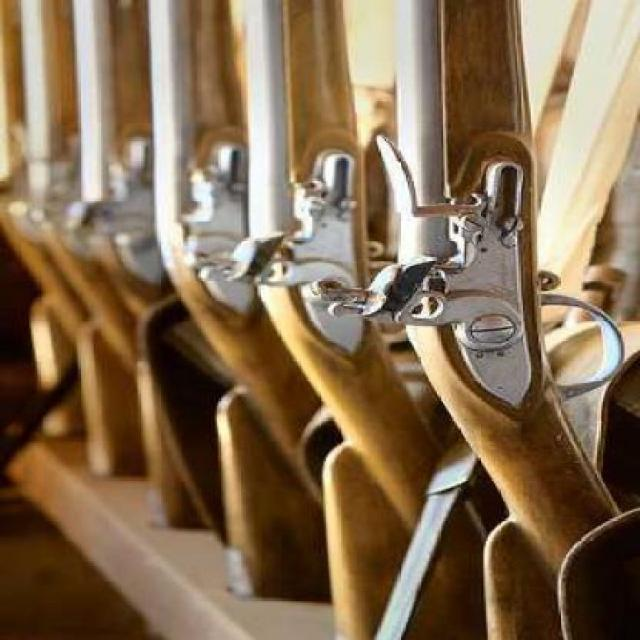heavy-weapon: (377, 1, 640, 640), (239, 0, 486, 636), (142, 0, 374, 536), (72, 0, 209, 492)
